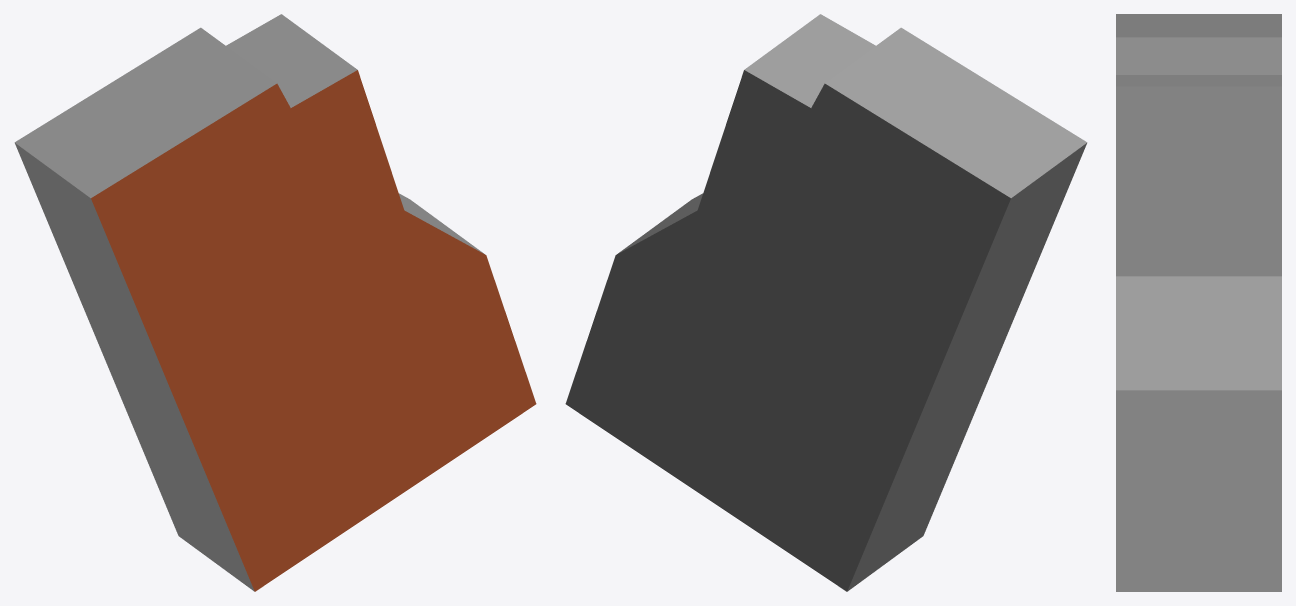
Rendered from construction_4968_assumed_A_Casa_h6m.obj.
The picture shows the model from 3 angles, left to right: view 1: azimuth 30°, elevation 25°; view 2: azimuth 150°, elevation 25°; view 3: azimuth 270°, elevation 25°; orthographic projection. The views are drawn at different scales.
Visible parts, largest first — view 1: construction_4968_assumed_A_Casa; view 2: construction_4968_assumed_A_Casa; view 3: construction_4968_assumed_A_Casa.
Part boxes in pixels (<box>): construction_4968_assumed_A_Casa: <box>14,14,536,591</box>; construction_4968_assumed_A_Casa: <box>565,14,1087,591</box>; construction_4968_assumed_A_Casa: <box>1116,14,1281,591</box>.
Size of the model in its own units: 20.22 by 21.81 by 6.
